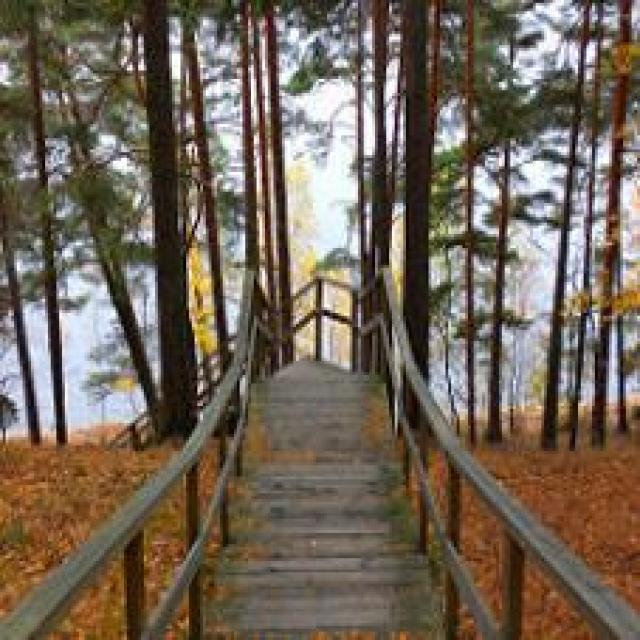upstair: (198, 365, 472, 618)
